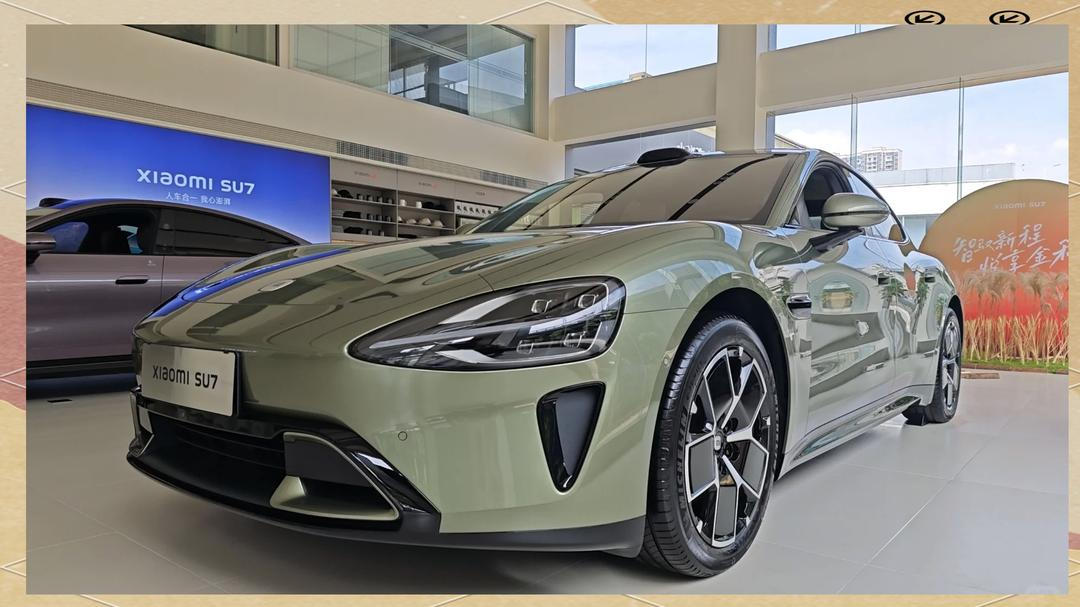su7: (140, 145, 980, 574)
